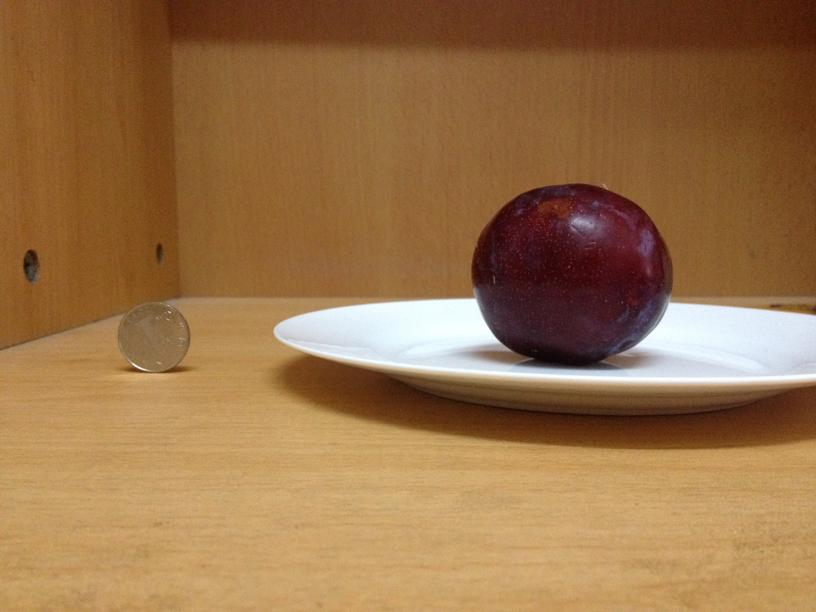coin: (116, 303, 191, 372)
plum: (468, 183, 671, 363)
